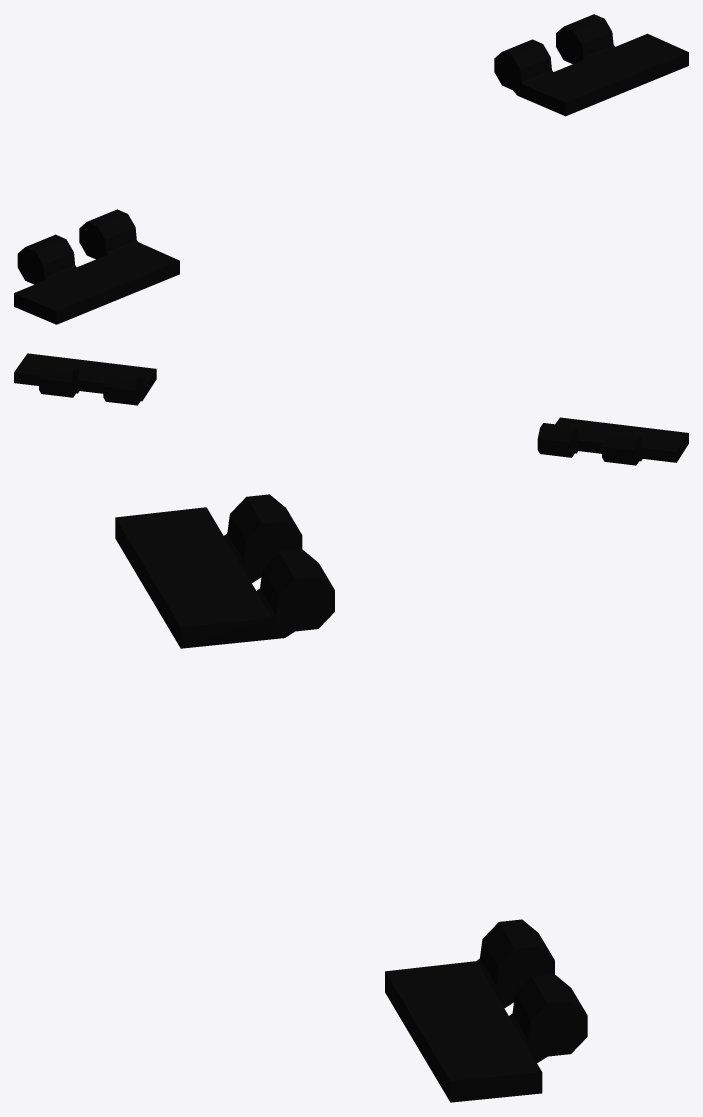
File: mesh8.dat.obj
3 views of the same model, one above another, from view 1: azimuth 30°, elevation 25°; view 2: azimuth 150°, elevation 25°; view 3: azimuth 270°, elevation 25° (orthographic). The views are drawn at different scales.
Parts seen in each view (by area): view 1: hinge_bottom_low; view 2: hinge_bottom_low; view 3: hinge_bottom_low.
Boxes of the visible parts, <box> form: hinge_bottom_low: <box>14,14,688,324</box>; hinge_bottom_low: <box>14,353,688,465</box>; hinge_bottom_low: <box>115,494,587,1102</box>.
Bounding box in the file's own units: 3.19 × 0.1507 × 1.11.
Materials: 1 (1 with a texture image).
